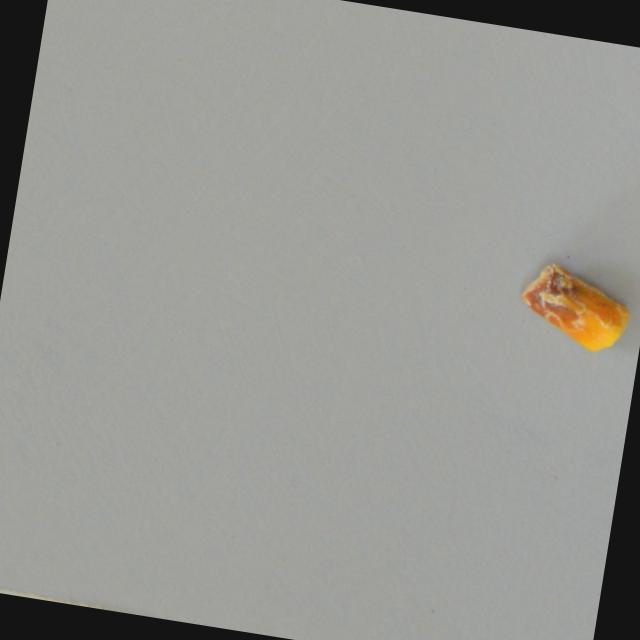dañado: (506, 250, 639, 363)
